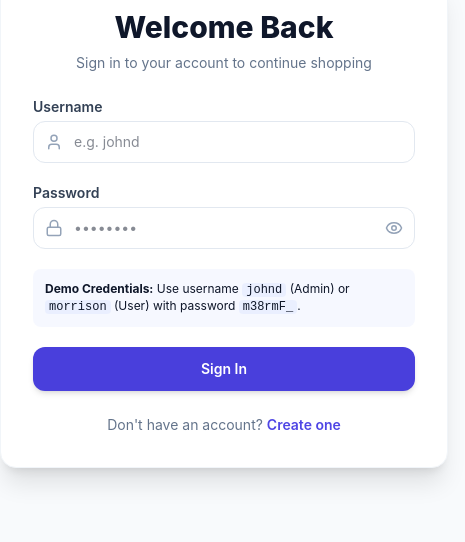
Scenario: LoginForm Validation › displays validation warnings on empty form submit
Click the button "Sign In": (224, 369) [33, 347, 415, 391]
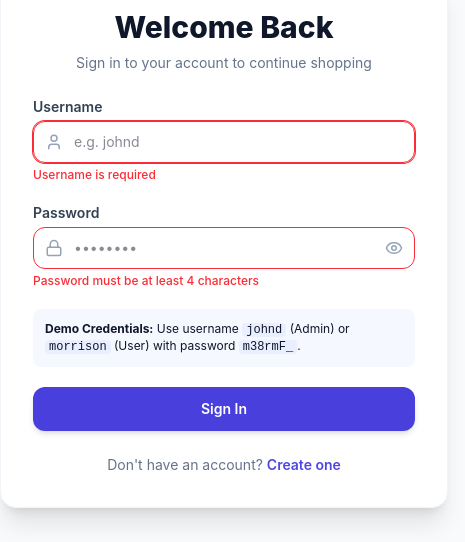
Check: the text "Username is required" is shown, box [33, 167, 156, 182]
Check: the text "Password must be at least 4 characters" is shown, box [33, 273, 259, 288]
